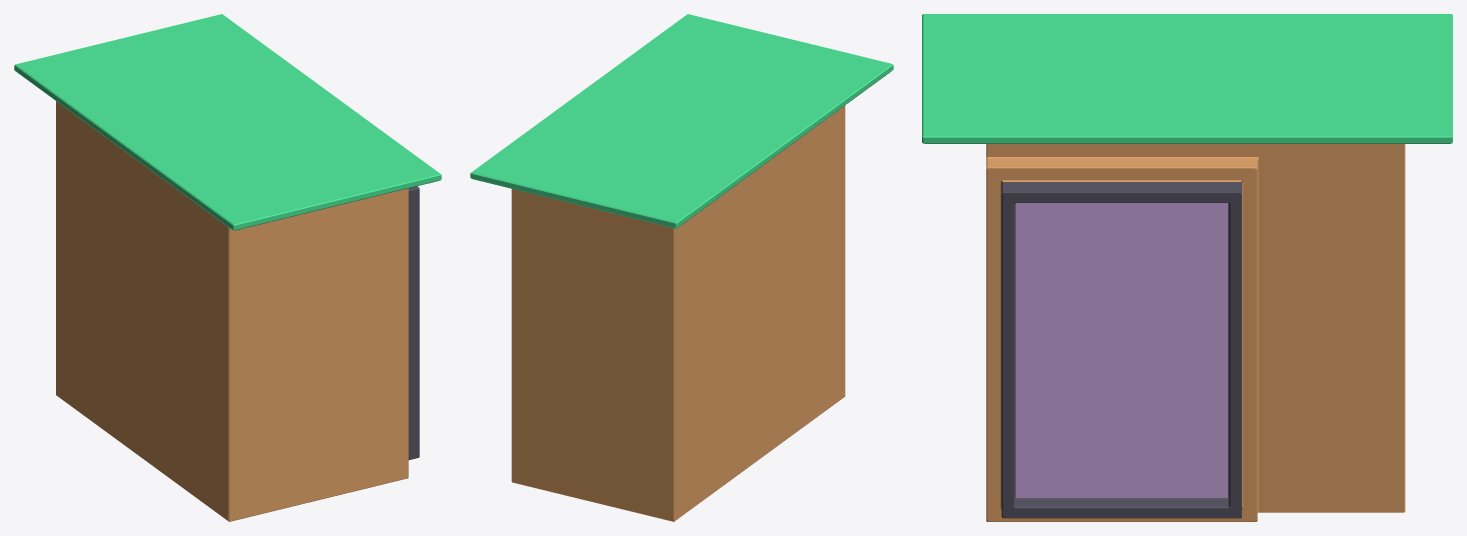
Rendered from Building_Roof_deco_3.fbx.
3 renders of one model, left to right at view 1: azimuth 30°, elevation 25°; view 2: azimuth 150°, elevation 25°; view 3: azimuth 270°, elevation 25°, orthographic. The views are drawn at different scales.
Visible parts, largest first — view 1: Building_Roof_deco_3; view 2: Building_Roof_deco_3; view 3: Building_Roof_deco_3.
Part boxes in pixels (left/top/right/bottom): Building_Roof_deco_3: left=14, top=14, right=441, bottom=521; Building_Roof_deco_3: left=470, top=14, right=893, bottom=521; Building_Roof_deco_3: left=922, top=14, right=1452, bottom=521.
Size of the model in its own units: 213 by 299 by 369.
